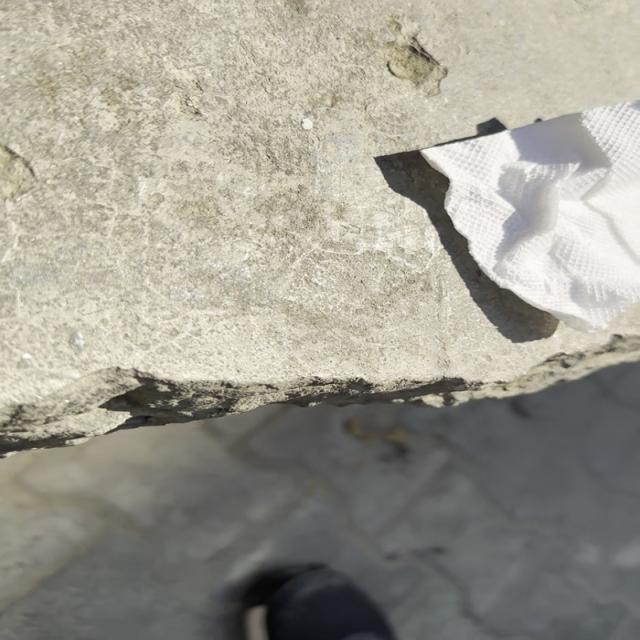tissue: (410, 98, 640, 343)
